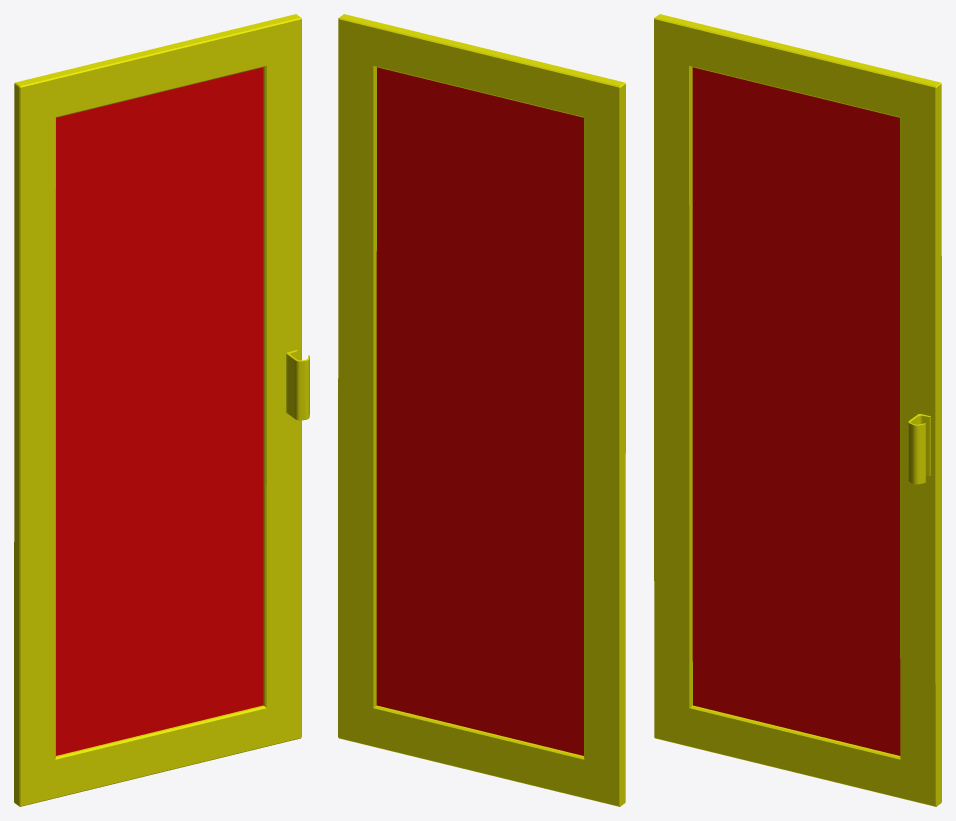
Rendered from Medical_cabinet_1_2.fbx.
3 renders of one model, left to right at view 1: azimuth 30°, elevation 25°; view 2: azimuth 150°, elevation 25°; view 3: azimuth 330°, elevation 25°, orthographic.
Parts seen in each view (by area): view 1: L2:polySurface655; view 2: L2:polySurface655; view 3: L2:polySurface655.
Boxes of the visible parts, x1,y1,x2,y2 form: L2:polySurface655: (14, 14, 309, 806); L2:polySurface655: (338, 14, 625, 806); L2:polySurface655: (654, 14, 941, 806).
Bounding box in the file's own units: 59.01 × 144 × 7.04.
